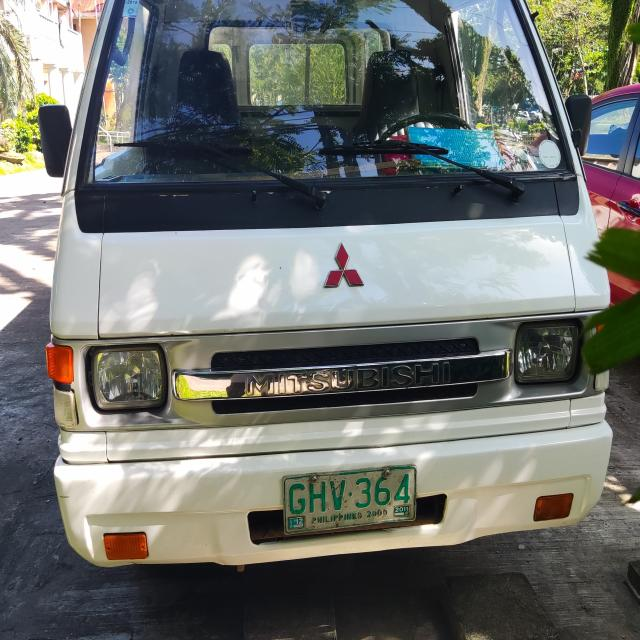plate: (279, 460, 421, 538)
